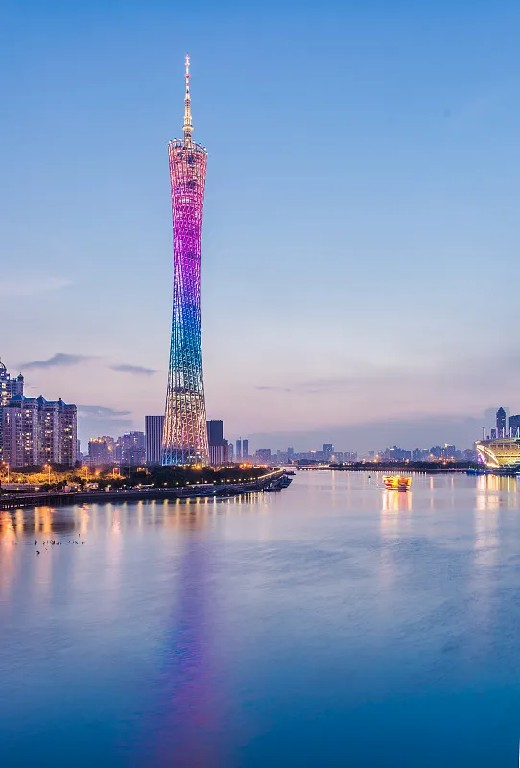Canton: (158, 53, 211, 469)
